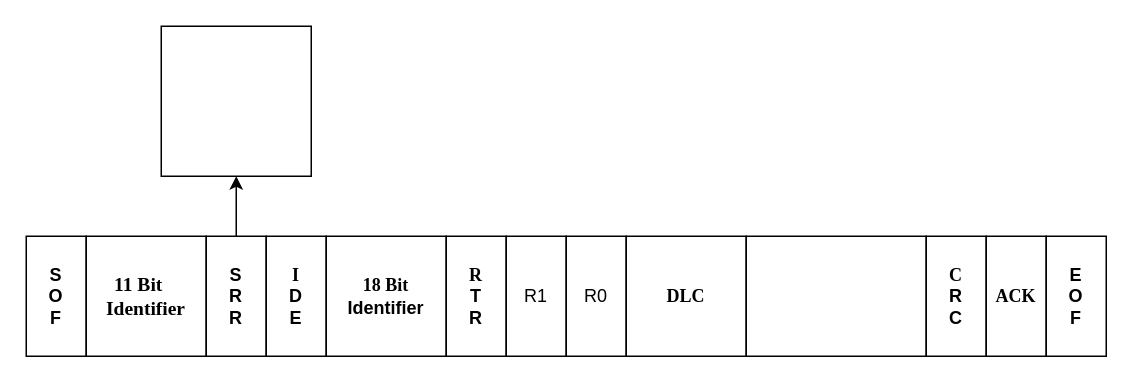
Some shapes in this 1133 by 383 pixel diagram are drawn without their labels. Each missing label, with the box of its shape:
DATA: (745, 235, 926, 356)
Substitute Remote Request: (160, 25, 311, 176)
